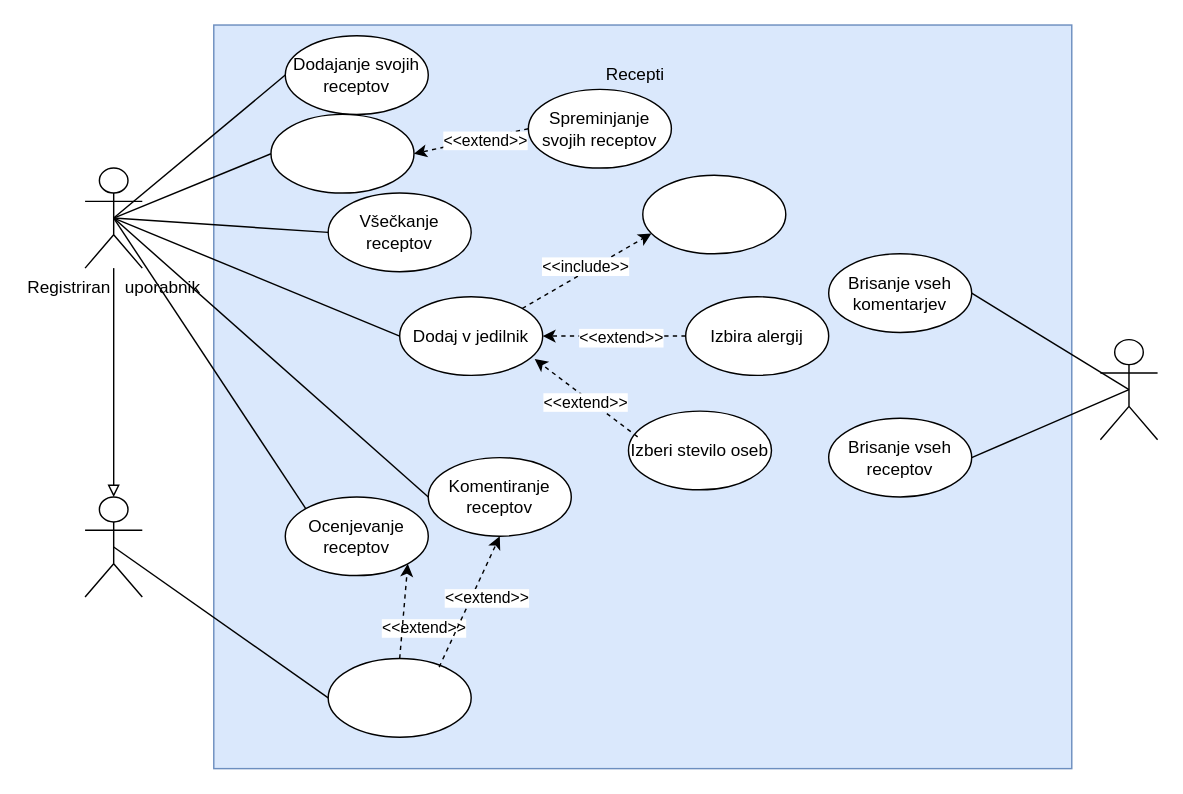
This 1183x794 diagram has some shape labels left out. Here are the shapes that lost their labels. From the top down, the centre of each, then its label:
At (x=342, y=153): "Ogled svojih receptov".
At (x=713, y=214): "Izbira datuma".
At (x=1128, y=389): "Admin".
At (x=113, y=546): "Neregistriran uporabnik".
At (x=399, y=697): "Ogled receptov".
